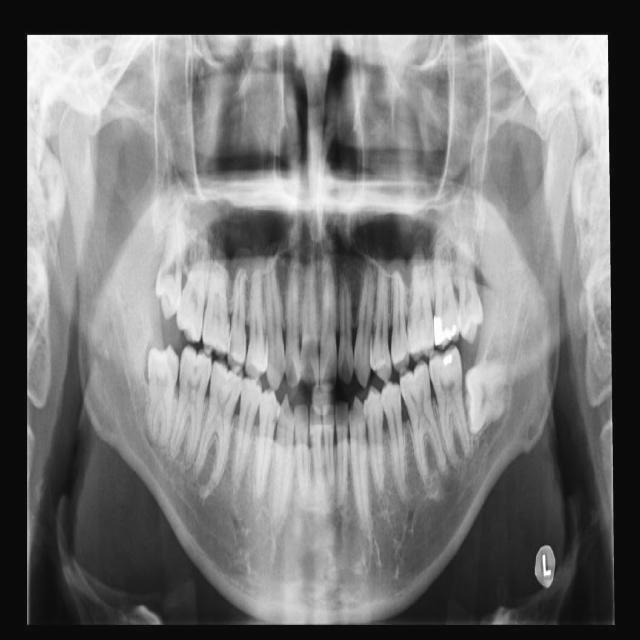Filling: (432, 312, 458, 348), (438, 350, 455, 369)
impacted tooth: (465, 354, 516, 432), (144, 345, 181, 451)
